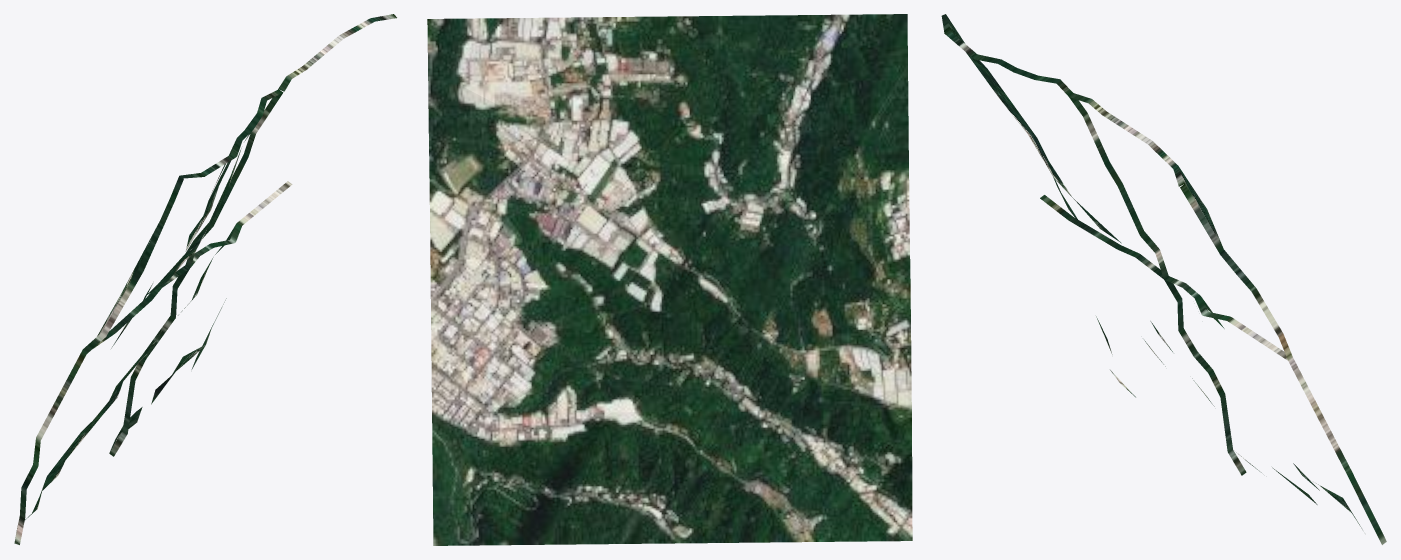
3 views of the same model, side by side, from view 1: azimuth 30°, elevation 25°; view 2: azimuth 150°, elevation 25°; view 3: azimuth 270°, elevation 25° (orthographic). The views are drawn at different scales.
Size of the model in its own units: 2408 by 2290 by 2129.
Materials: 1 (1 with a texture image).
